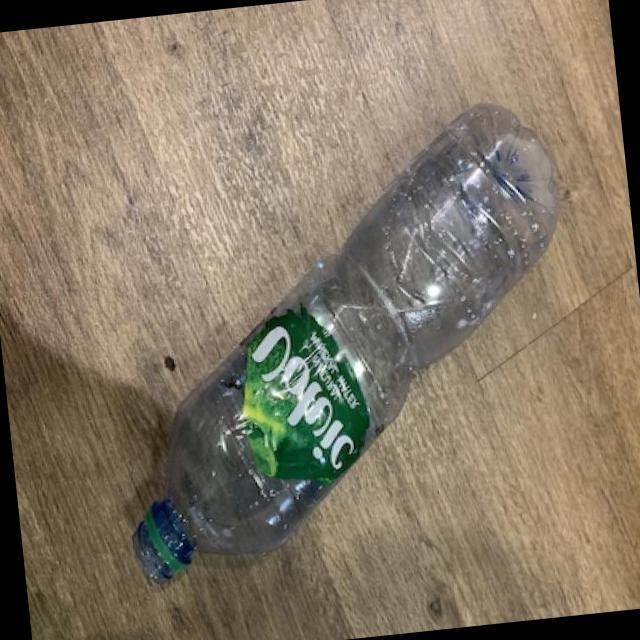plastic_bottle: (89, 96, 596, 587)
